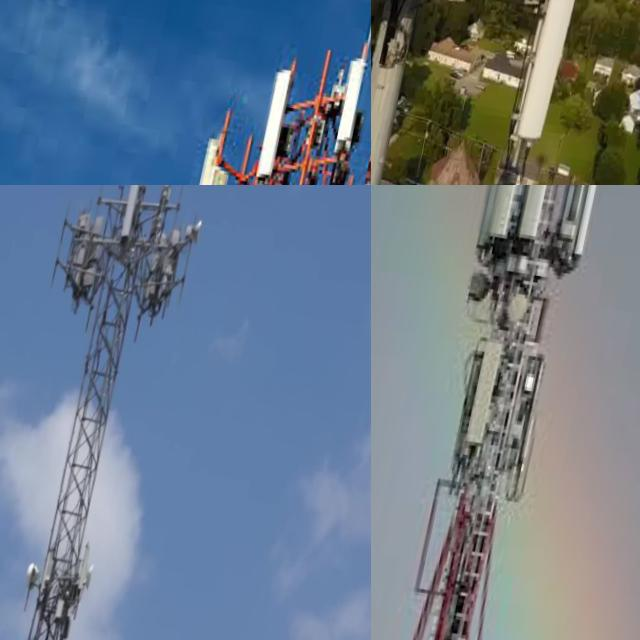GSM Antenna: (510, 0, 640, 162), (255, 67, 298, 177), (567, 185, 623, 265), (468, 338, 506, 448), (512, 185, 576, 250), (331, 54, 371, 151), (481, 185, 544, 244), (187, 132, 232, 185), (115, 185, 146, 245), (73, 537, 99, 599)
Microwave Antenna: (502, 290, 534, 337), (464, 269, 498, 310), (181, 216, 208, 250), (24, 556, 45, 596), (83, 564, 102, 598)
